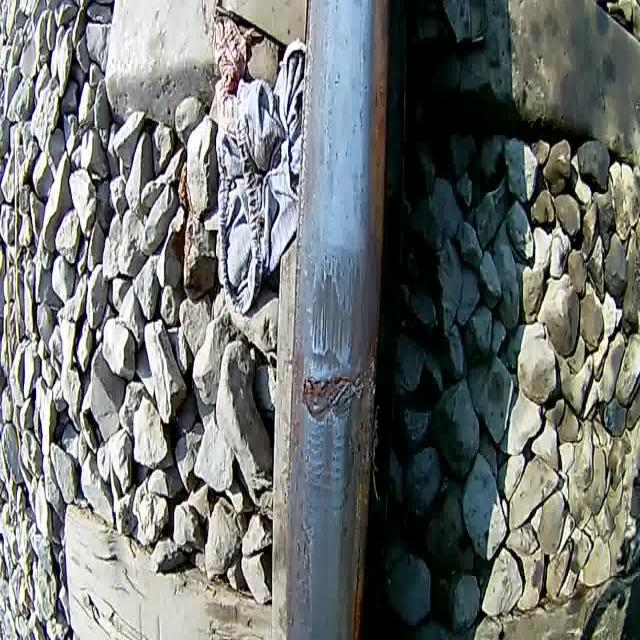Squats: (304, 236, 374, 373)
